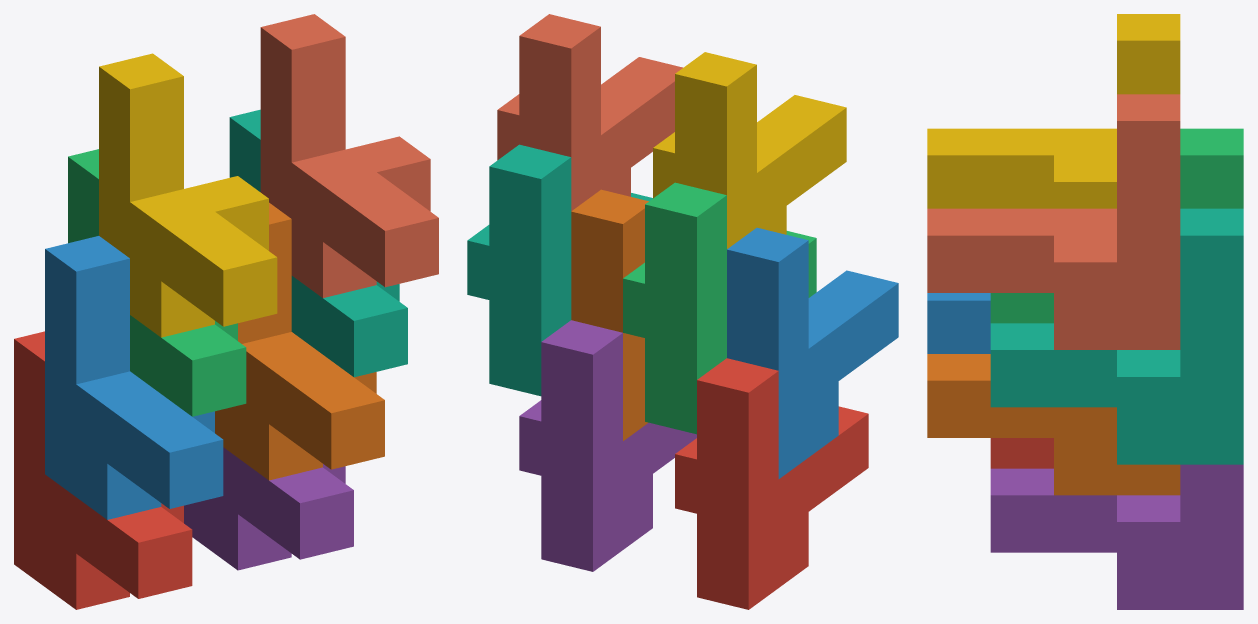
Rendered from tiling.obj.
The picture shows the model from 3 angles, left to right: view 1: azimuth 30°, elevation 25°; view 2: azimuth 150°, elevation 25°; view 3: azimuth 270°, elevation 25°; orthographic projection. The views are drawn at different scales.
Parts seen in each view (by area): view 1: copy_1_domain_8, copy_1_domain_4, copy_1_domain_2, copy_1_domain_1, copy_1_domain_6, copy_1_domain_5, copy_1_domain_3, copy_1_domain_7; view 2: copy_1_domain_1, copy_1_domain_5, copy_1_domain_2, copy_1_domain_4, copy_1_domain_8, copy_1_domain_3, copy_1_domain_7, copy_1_domain_6; view 3: copy_1_domain_8, copy_1_domain_7, copy_1_domain_5, copy_1_domain_4, copy_1_domain_6, copy_1_domain_3, copy_1_domain_2, copy_1_domain_1.
Part boxes in pixels (box(x1,y1,x2,y2)): copy_1_domain_8: box(260, 14, 438, 297); copy_1_domain_4: box(99, 53, 277, 337); copy_1_domain_2: box(45, 236, 223, 519); copy_1_domain_1: box(14, 331, 192, 609); copy_1_domain_6: box(215, 202, 384, 480); copy_1_domain_5: box(184, 447, 353, 570); copy_1_domain_3: box(68, 149, 246, 416); copy_1_domain_7: box(229, 109, 407, 377); copy_1_domain_1: box(675, 358, 868, 609); copy_1_domain_5: box(519, 320, 696, 571); copy_1_domain_2: box(727, 227, 898, 478); copy_1_domain_4: box(653, 52, 846, 248); copy_1_domain_8: box(497, 14, 682, 210); copy_1_domain_3: box(623, 182, 816, 434); copy_1_domain_7: box(467, 144, 652, 396); copy_1_domain_6: box(571, 189, 648, 440); copy_1_domain_8: box(927, 94, 1180, 349); copy_1_domain_7: box(990, 208, 1243, 464); copy_1_domain_5: box(990, 464, 1243, 609); copy_1_domain_4: box(927, 14, 1180, 208); copy_1_domain_6: box(927, 354, 1180, 495); copy_1_domain_3: box(990, 128, 1243, 323); copy_1_domain_2: box(927, 293, 990, 353); copy_1_domain_1: box(990, 438, 1053, 468).
Bounding box in the file's own units: 6 × 9 × 5.
